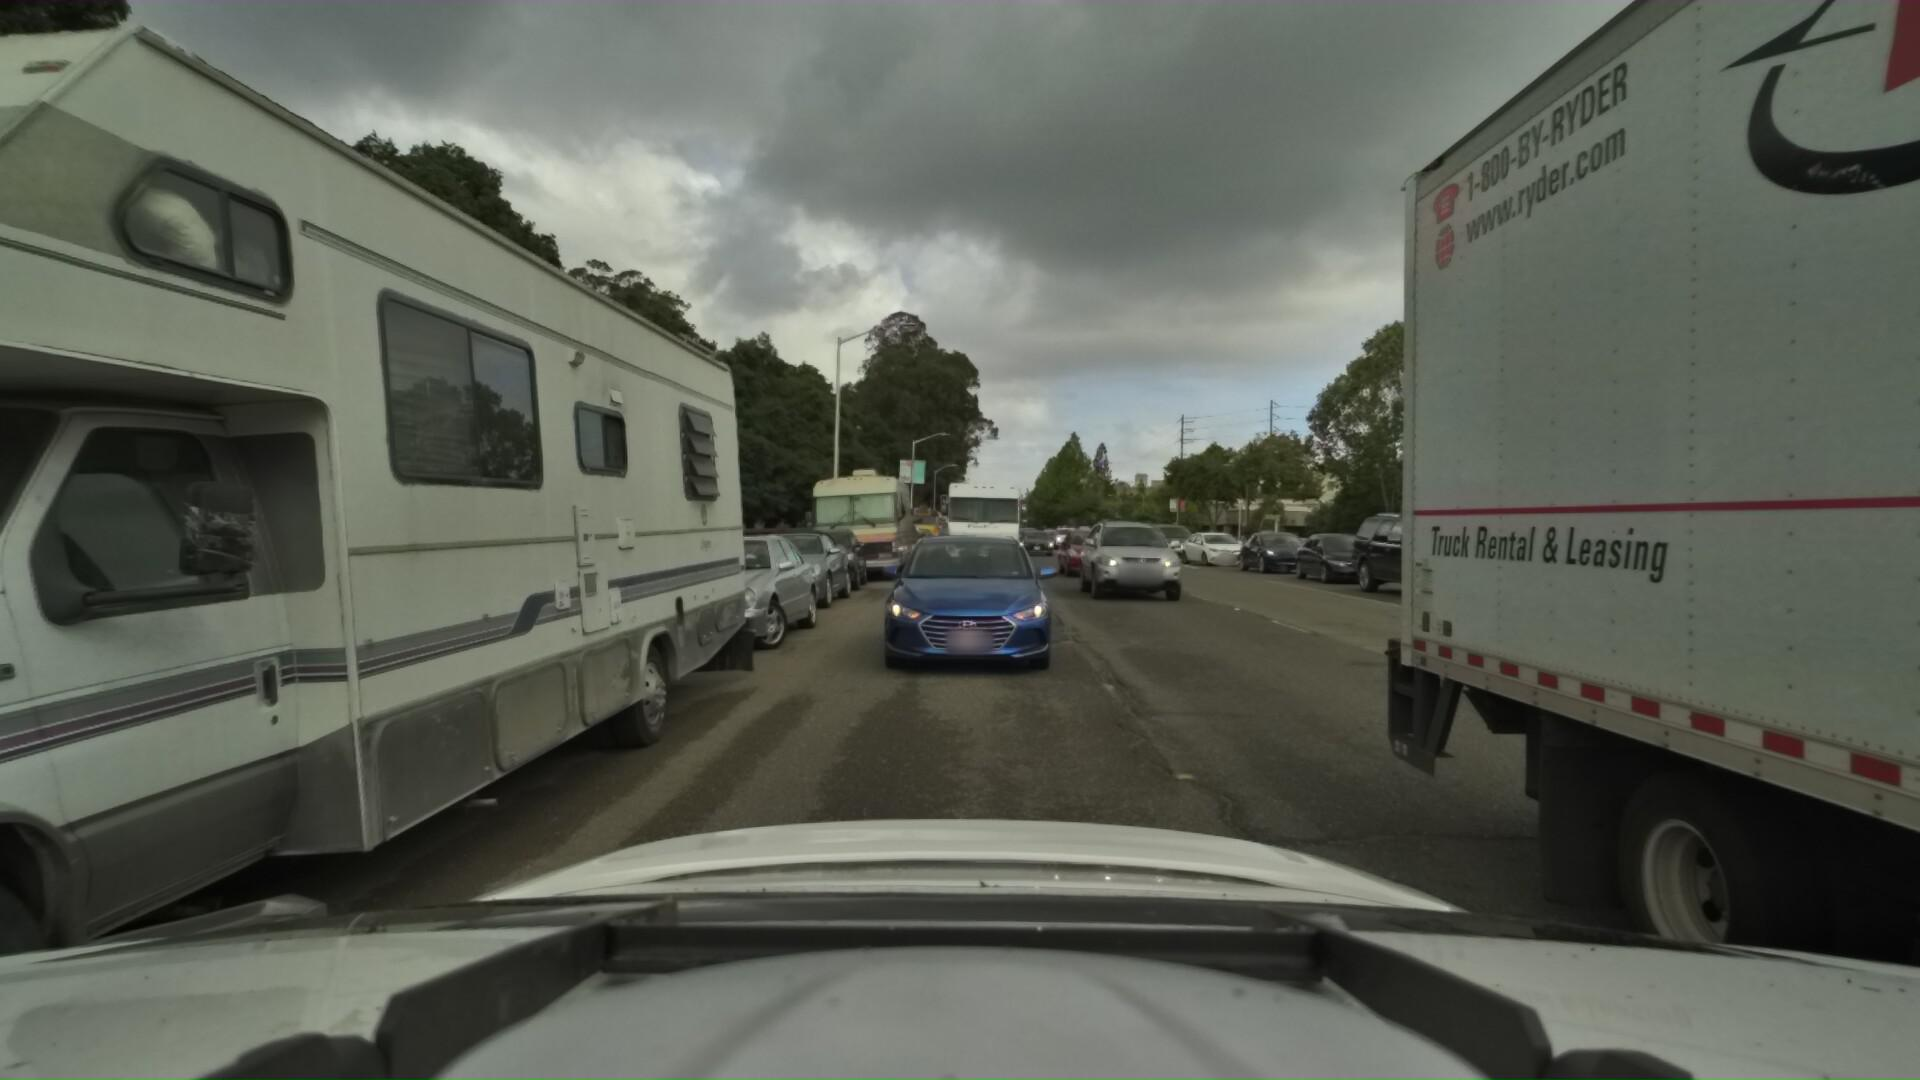bus: (897, 502, 943, 551)
car: (616, 535, 837, 680), (868, 524, 1058, 683), (1335, 517, 1518, 615), (728, 533, 860, 628), (1069, 510, 1182, 600), (1279, 530, 1394, 589), (787, 526, 869, 597), (1229, 533, 1315, 582), (1051, 522, 1118, 576), (1170, 526, 1251, 564), (1129, 518, 1203, 560), (1088, 513, 1153, 560), (881, 522, 926, 564), (1010, 524, 1051, 555), (898, 527, 931, 556), (1048, 522, 1079, 549)
other_vehicle: (0, 0, 808, 1080), (800, 460, 920, 591)
truck: (938, 463, 1025, 575)
